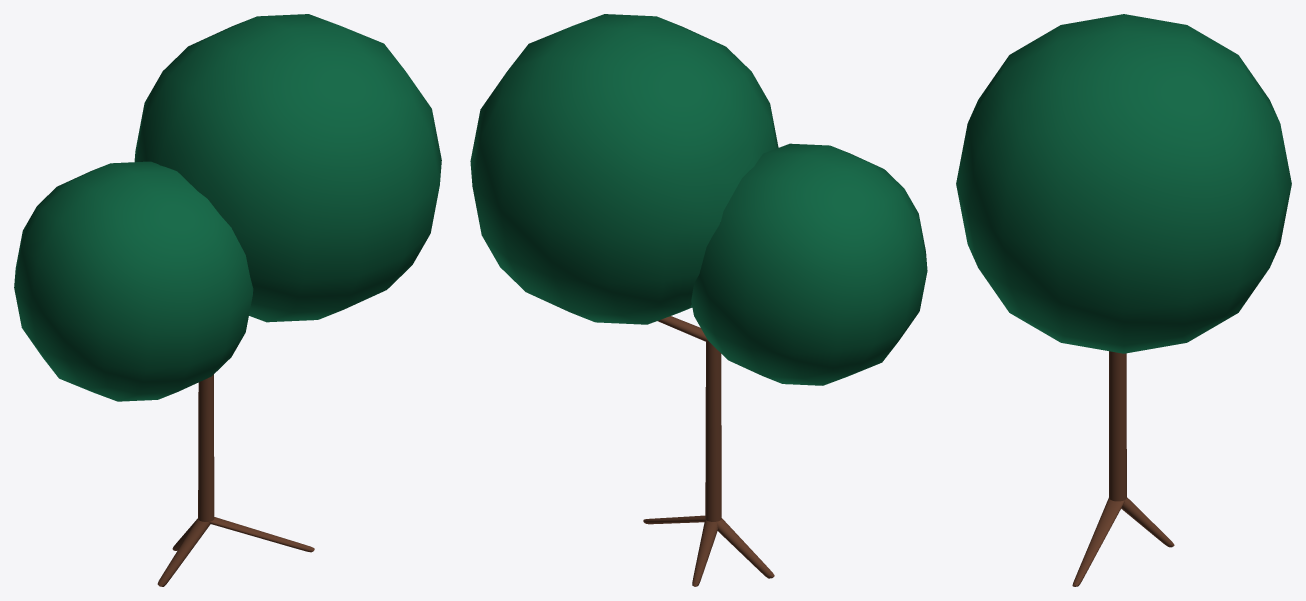
File: jabuticaba.fbx
The picture shows the model from 3 angles, left to right: view 1: azimuth 30°, elevation 25°; view 2: azimuth 150°, elevation 25°; view 3: azimuth 270°, elevation 25°; orthographic projection. The views are drawn at different scales.
Parts seen in each view (by area): view 1: Cylinder; view 2: Cylinder; view 3: Cylinder.
Boxes of the visible parts, x1,y1,x2,y2 form: Cylinder: [14, 14, 441, 586]; Cylinder: [470, 14, 927, 586]; Cylinder: [956, 14, 1291, 586].
Bounding box in the file's own units: 616 × 757 × 406.
